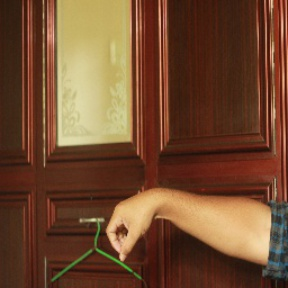O: (104, 190, 163, 263)
